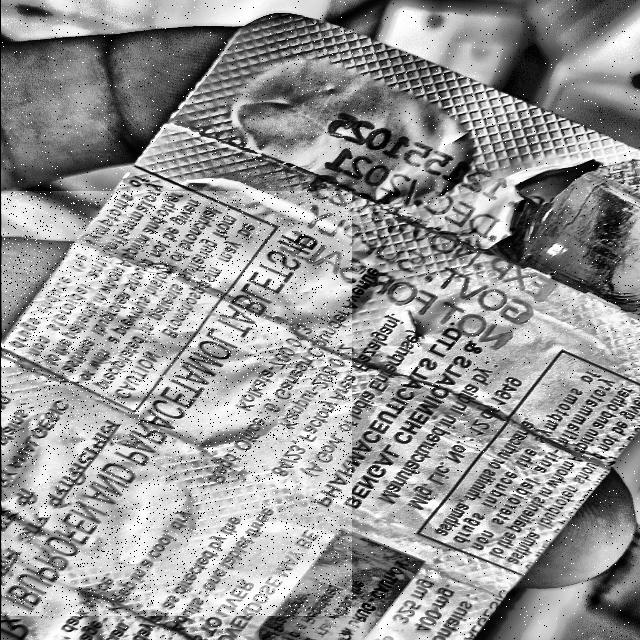IBUPROFEN AND PARACETAMOL TABLETS: (2, 191, 351, 615)
